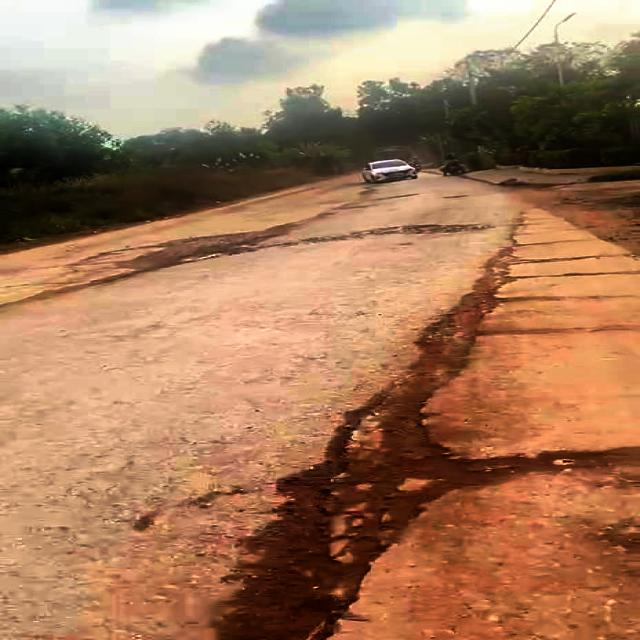pothole: (225, 385, 481, 640)
